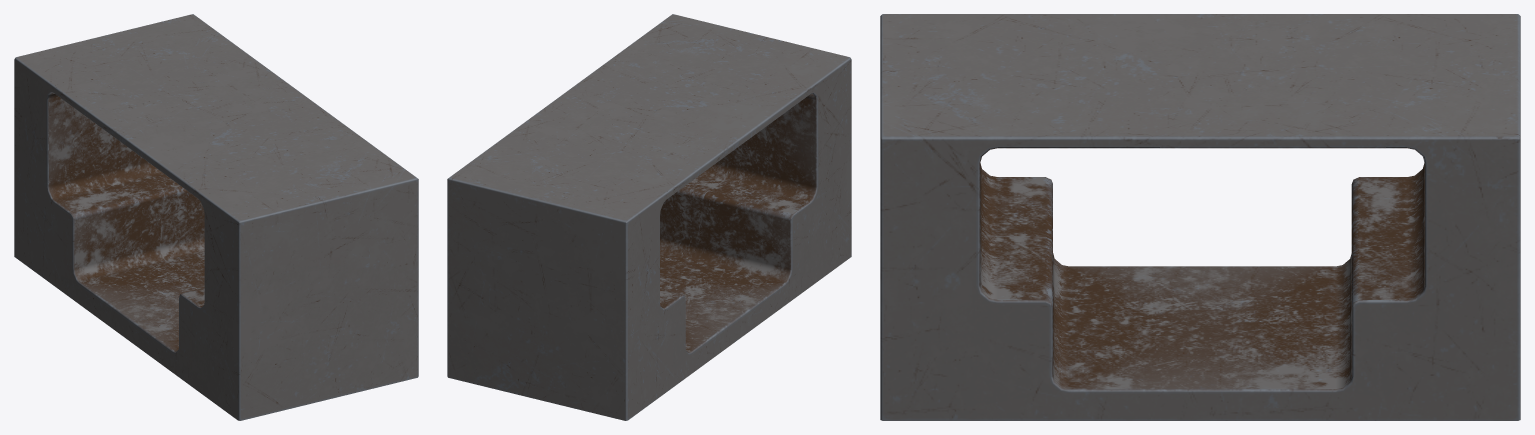
Rendered from SM_HangarWallFloor03.fbx.
3 renders of one model, left to right at view 1: azimuth 30°, elevation 25°; view 2: azimuth 150°, elevation 25°; view 3: azimuth 270°, elevation 25°, orthographic. The views are drawn at different scales.
Parts seen in each view (by area): view 1: SM_HangarWallFloor03_LOD0; view 2: SM_HangarWallFloor03_LOD0; view 3: SM_HangarWallFloor03_LOD0.
Part boxes in pixels (left/top/right/bottom): SM_HangarWallFloor03_LOD0: left=14, top=14, right=418, bottom=420; SM_HangarWallFloor03_LOD0: left=447, top=14, right=851, bottom=420; SM_HangarWallFloor03_LOD0: left=880, top=14, right=1520, bottom=420.
Bounding box in the file's own units: 240 × 520 × 254.
Materials: 1 (1 with a texture image).
